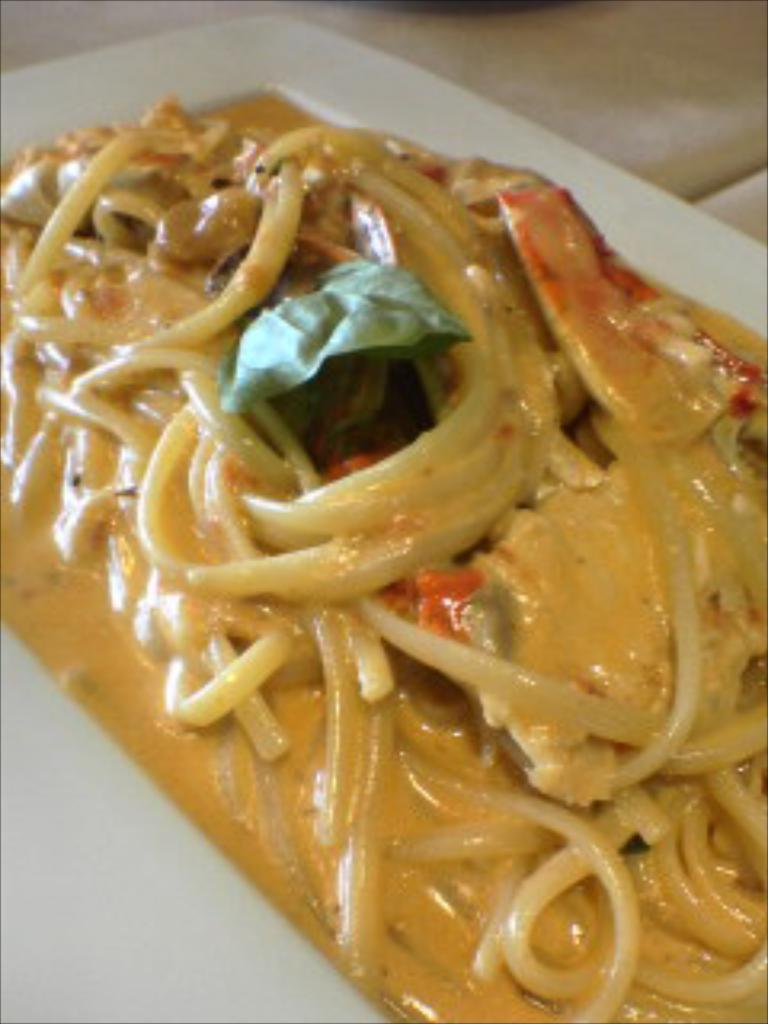pasta: (35, 83, 768, 1002)
